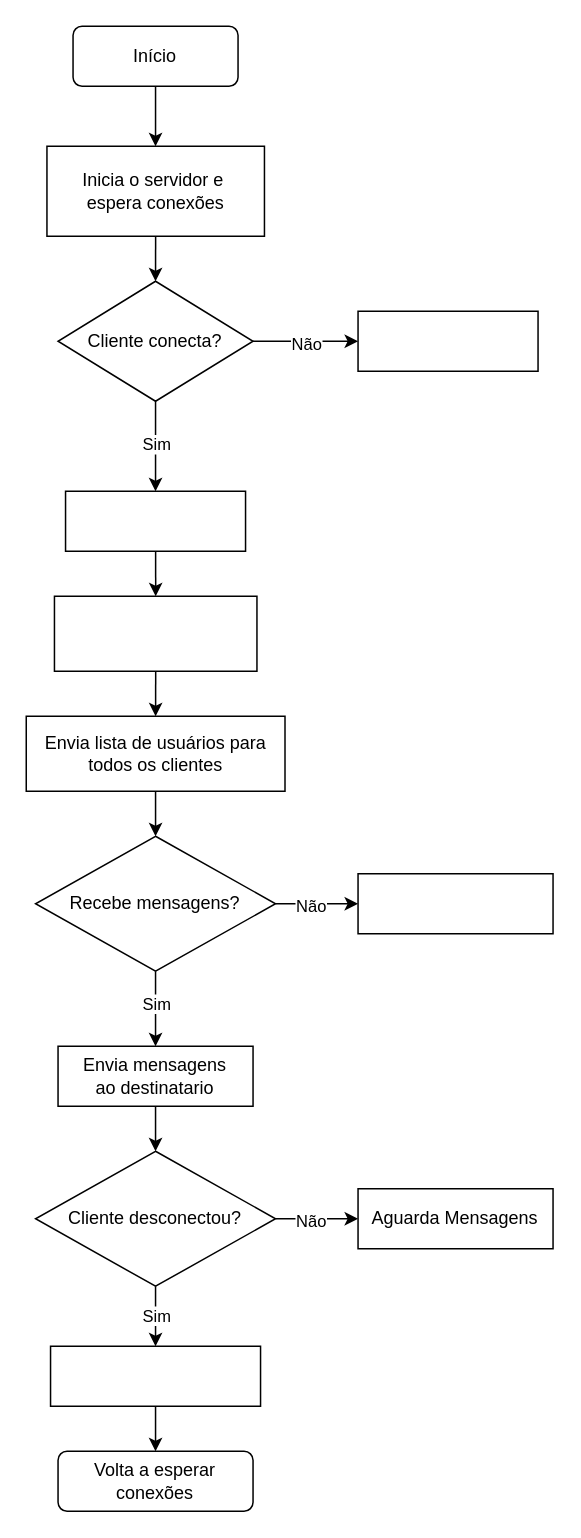
The diagram is 581 pixels wide and 1538 high, and some of its shapes have lost their labels. Here are the shapes that lost their labels. From the top down, the box of each, then its label:
(357, 310, 538, 371): Fica aguardando
(64, 490, 246, 551): Recebe o nome do cliente
(53, 595, 257, 671): Adiciona cliente a lista de usuários
(357, 872, 553, 934): Continua aguardando
(49, 1345, 261, 1406): Remove cliente e atualiza a lista de usuários
